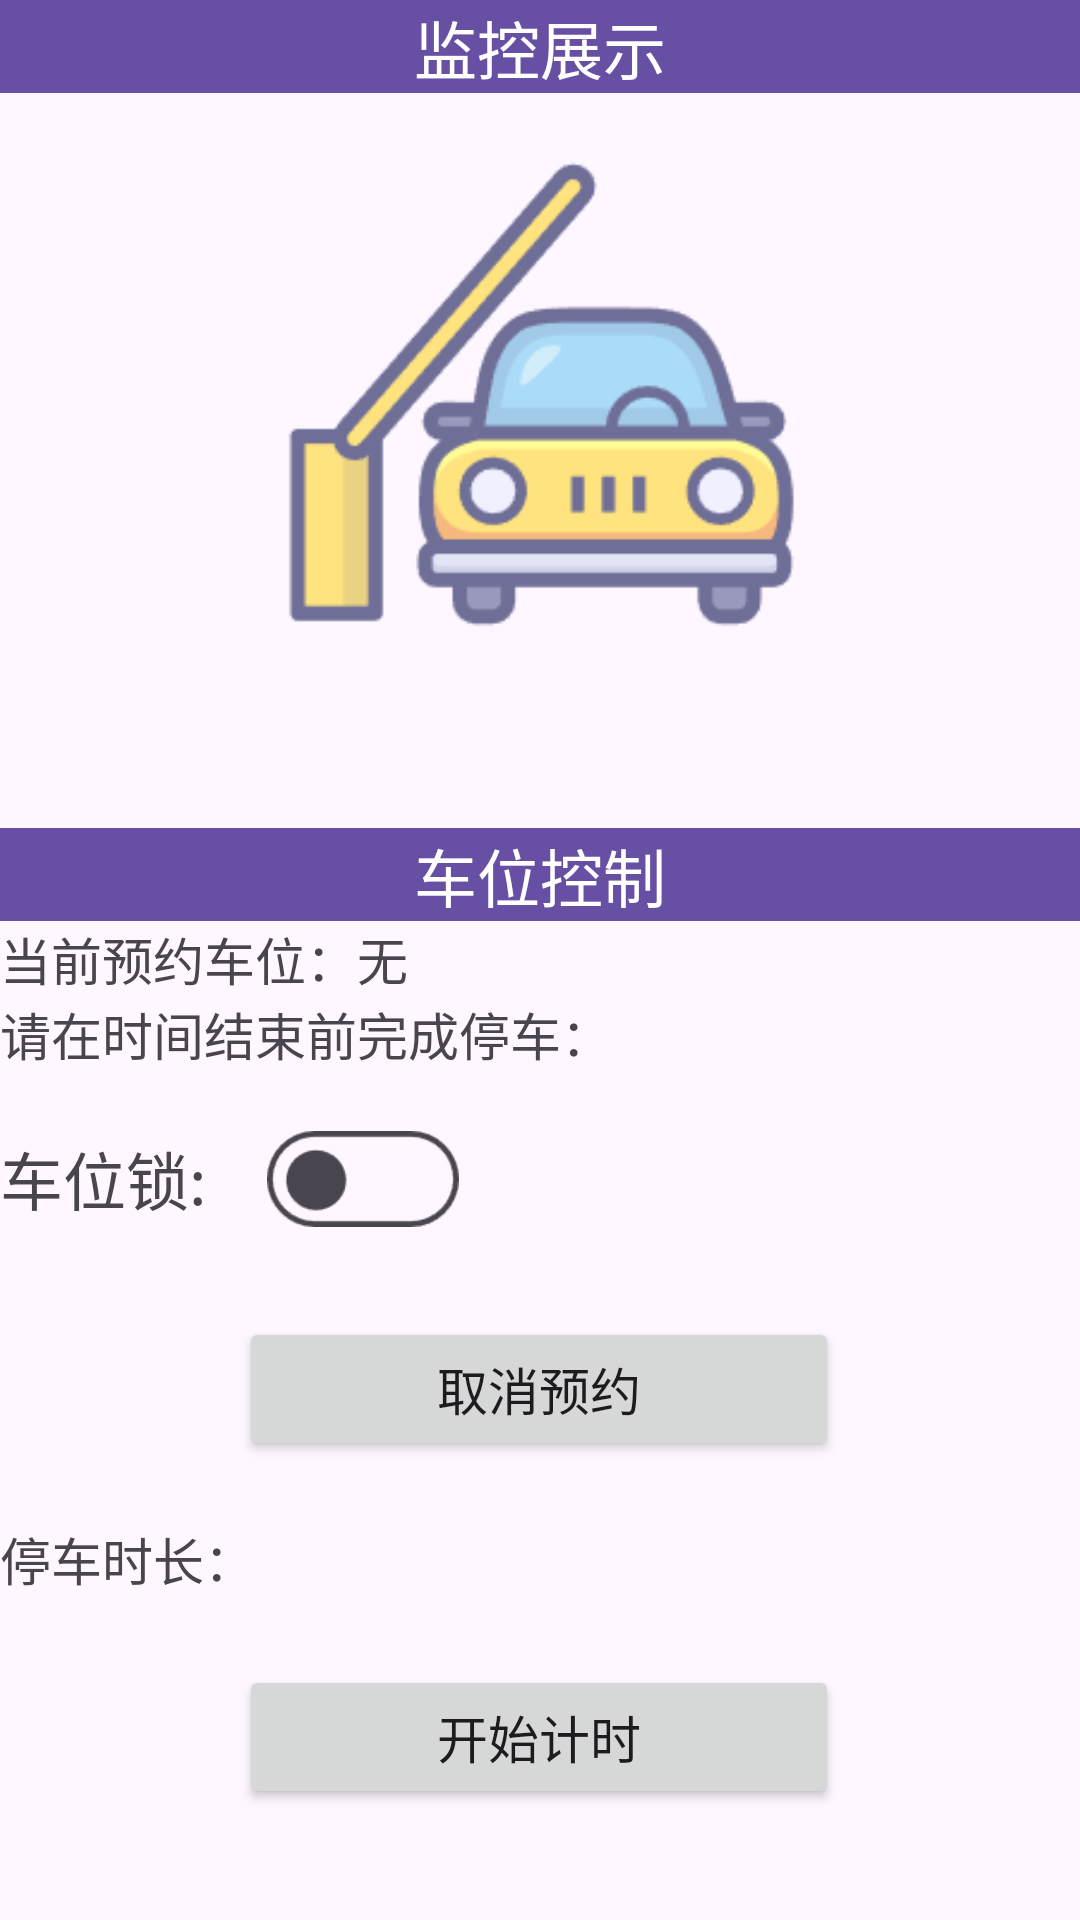

Point at icon controls on the screen. Image size 1080w x 1920h, points as (x,y).
switch: (363,1179)
